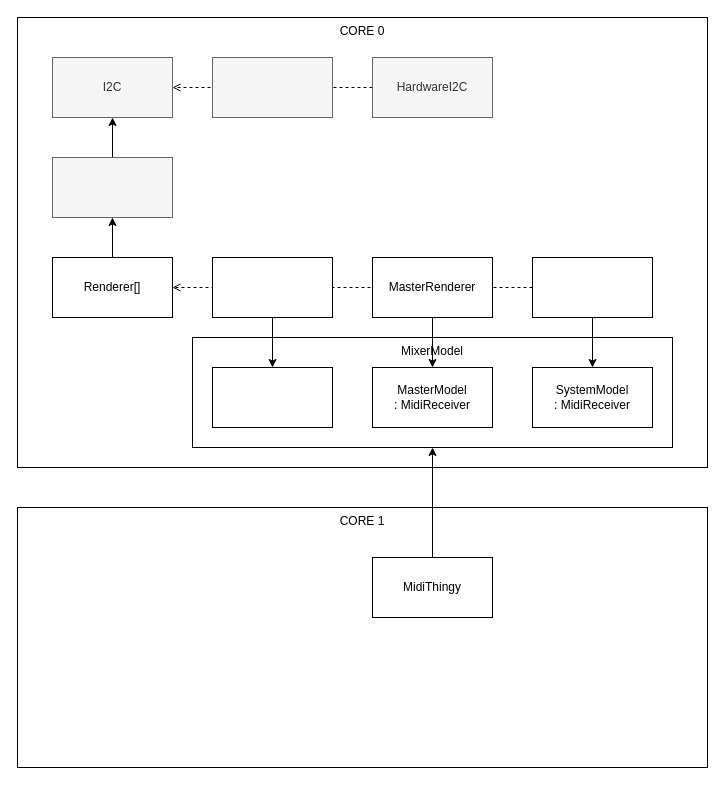
Image size: 725x785. Some labels were removed from this diagram. The shapes that lost their labels are listed below. From the top down, each one's centre as x and y in pixels, then its label:
(272,87): PioI2C
(112,187): OLED
(272,287): ChannelRenderer
(592,287): SystemRenderer
(272,397): ChannelModel : MidiReceiver
